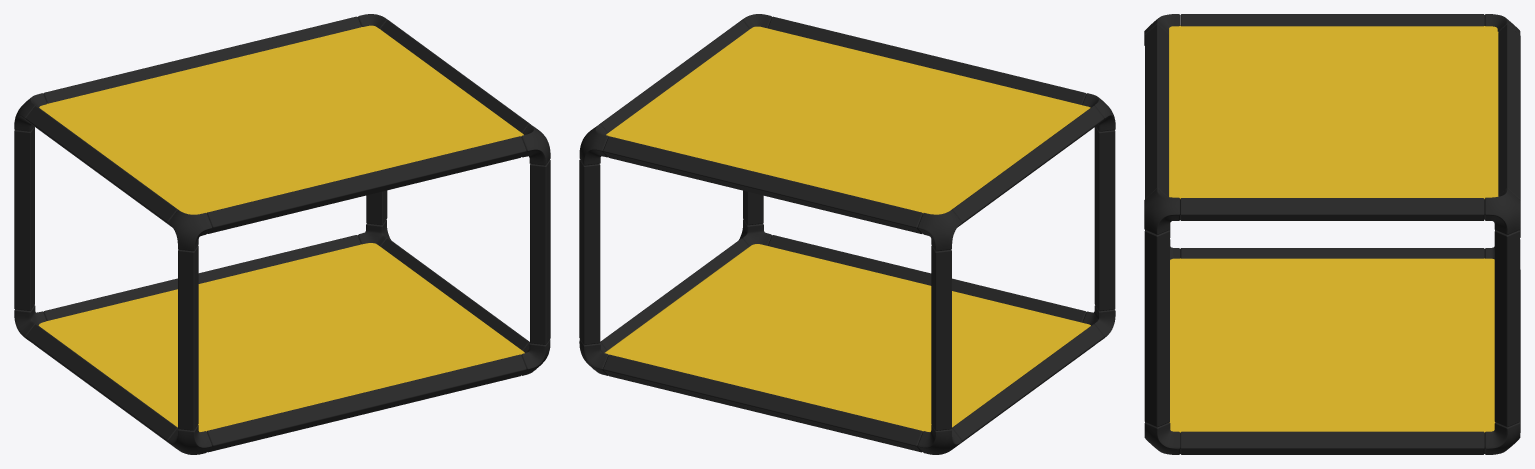
3 renders of one model, left to right at view 1: azimuth 30°, elevation 25°; view 2: azimuth 150°, elevation 25°; view 3: azimuth 270°, elevation 25°, orthographic. The views are drawn at different scales.
Parts seen in each view (by area): view 1: 420x329x229; view 2: 420x329x229; view 3: 420x329x229.
Part boxes in pixels (x1,y1,x2,y2): 420x329x229: [14, 14, 550, 454]; 420x329x229: [579, 14, 1115, 454]; 420x329x229: [1144, 14, 1520, 454].
Size of the model in its own units: 0.4977 by 0.3066 by 0.4063.
